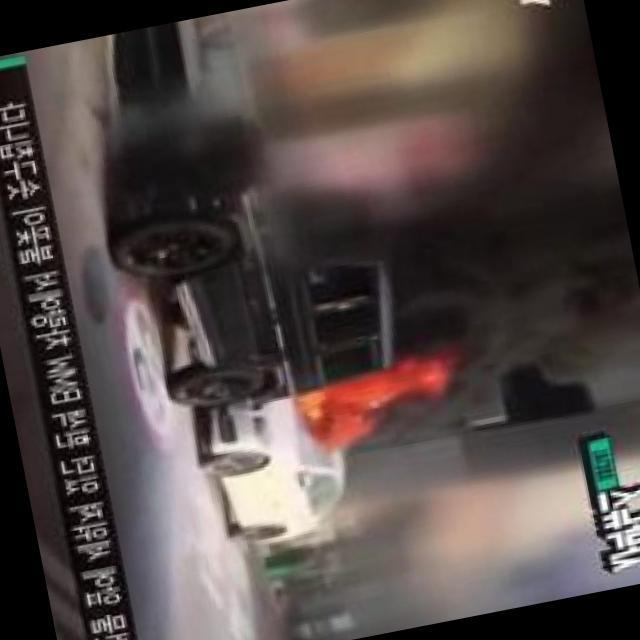Fire: (288, 382, 366, 444)
